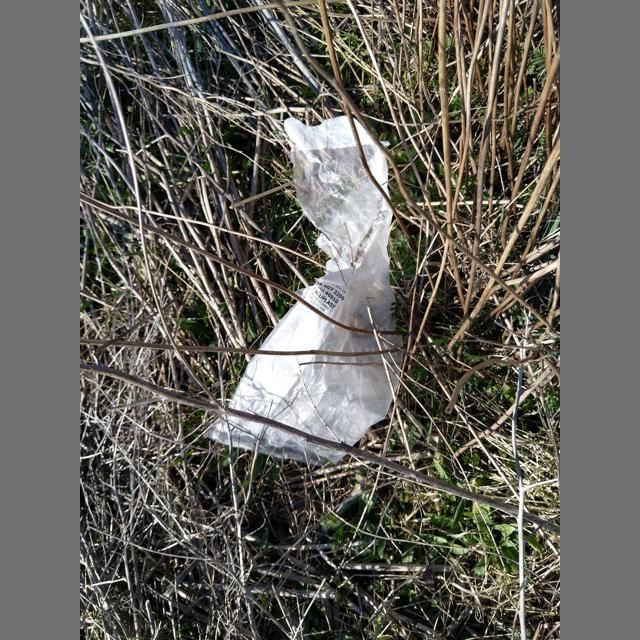litter: (207, 116, 404, 467)
